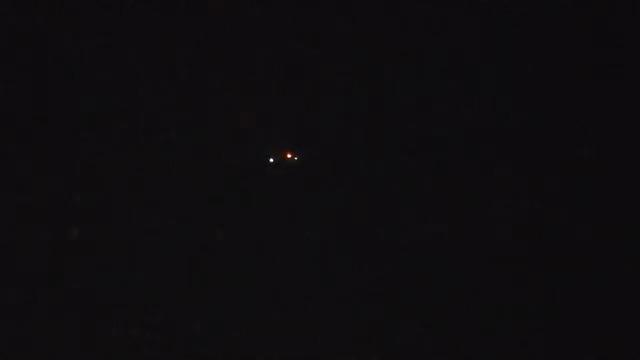Plane: (251, 145, 318, 170)
